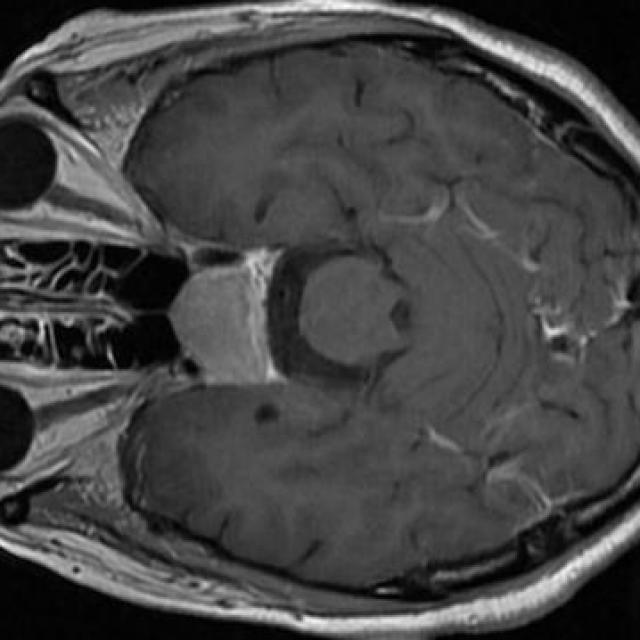pituitary: (169, 257, 278, 387)
